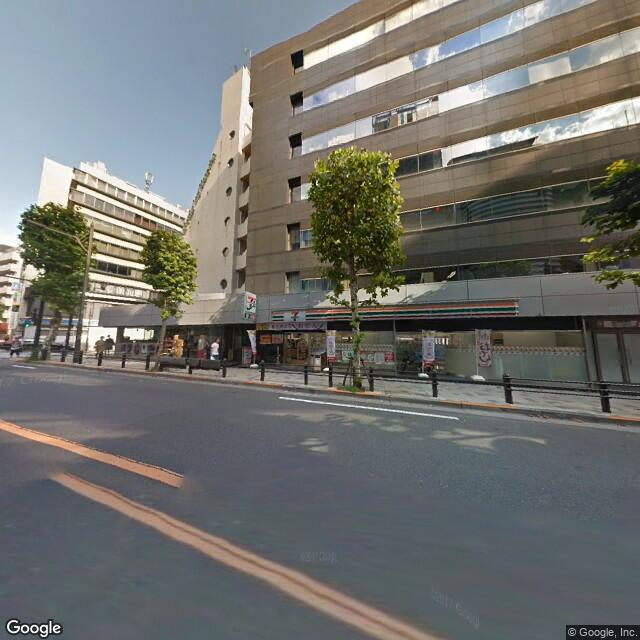7-eleven: (269, 295, 524, 324), (241, 288, 259, 316)
